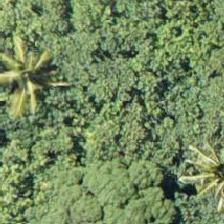coconut_tree: (0, 30, 67, 120), (175, 130, 223, 220)
